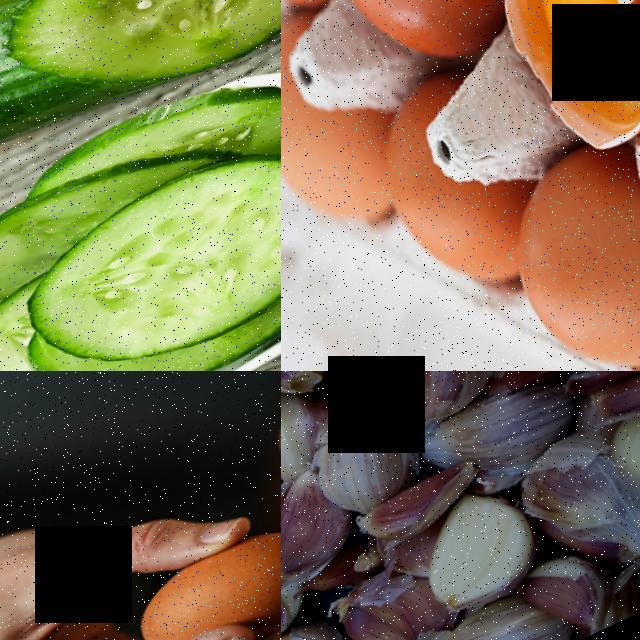cucumber: (5, 116, 281, 371), (0, 0, 281, 248)
egg_: (480, 126, 640, 371), (121, 504, 281, 640), (305, 0, 533, 88), (513, 0, 640, 105)
garlic: (403, 472, 565, 621), (354, 453, 496, 554), (516, 541, 635, 640), (281, 466, 365, 591), (365, 371, 528, 430), (608, 392, 640, 520)
